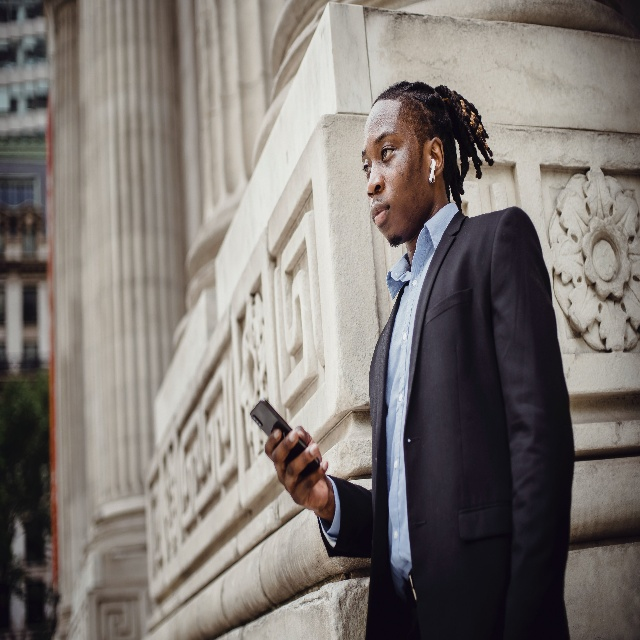Sin_guantes: (263, 423, 332, 517)
